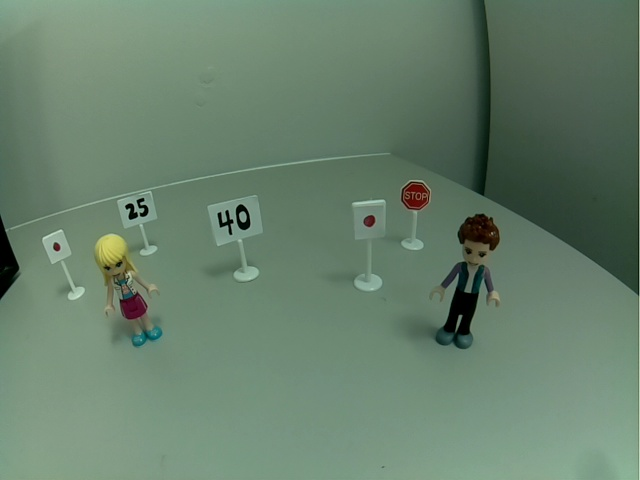people: (427, 212, 503, 351), (89, 233, 166, 348)
red light: (351, 198, 388, 241), (39, 228, 73, 266)
speed 25: (115, 190, 160, 230)
speed 40: (206, 194, 266, 247)
stop: (399, 177, 431, 212)
